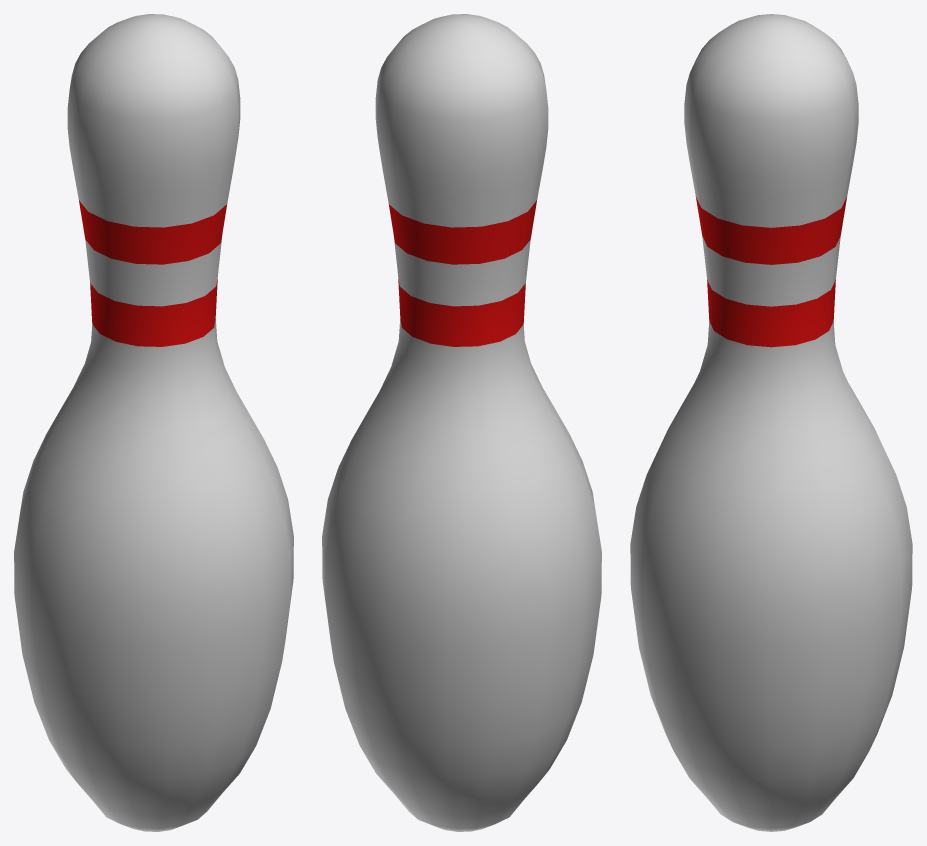
Rendered from bowling_pin.glb.
3 views of the same model, side by side, from view 1: azimuth 30°, elevation 25°; view 2: azimuth 150°, elevation 25°; view 3: azimuth 270°, elevation 25° (orthographic).
Parts seen in each view (by area): view 1: Pin; view 2: Pin; view 3: Pin.
Boxes of the visible parts, <box> form: Pin: <box>14,14,293,831</box>; Pin: <box>322,14,601,831</box>; Pin: <box>630,14,912,831</box>.
Size of the model in its own units: 0.1219 by 0.38 by 0.1219.
